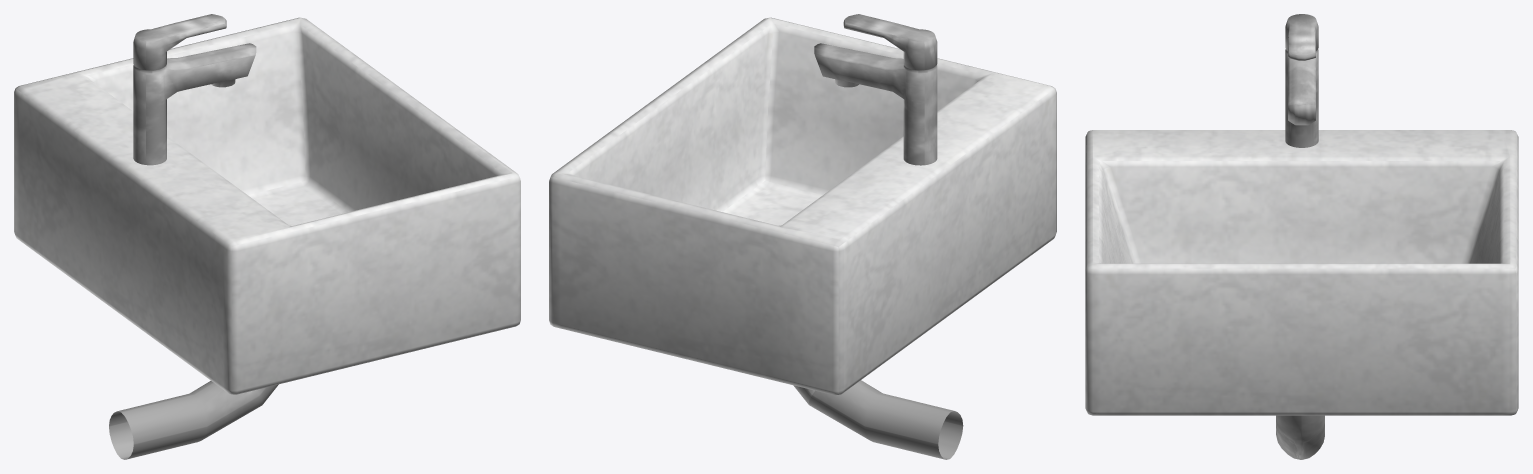
The model's file is Sink.fbx.
3 renders of one model, left to right at view 1: azimuth 30°, elevation 25°; view 2: azimuth 150°, elevation 25°; view 3: azimuth 270°, elevation 25°, orthographic.
Parts seen in each view (by area): view 1: Circle; view 2: Circle; view 3: Circle.
Boxes of the visible parts, bbox=[...] form: Circle: bbox=[14, 14, 520, 459]; Circle: bbox=[549, 14, 1056, 459]; Circle: bbox=[1085, 14, 1518, 459].
Bounding box in the file's own units: 200 × 271 × 260.
